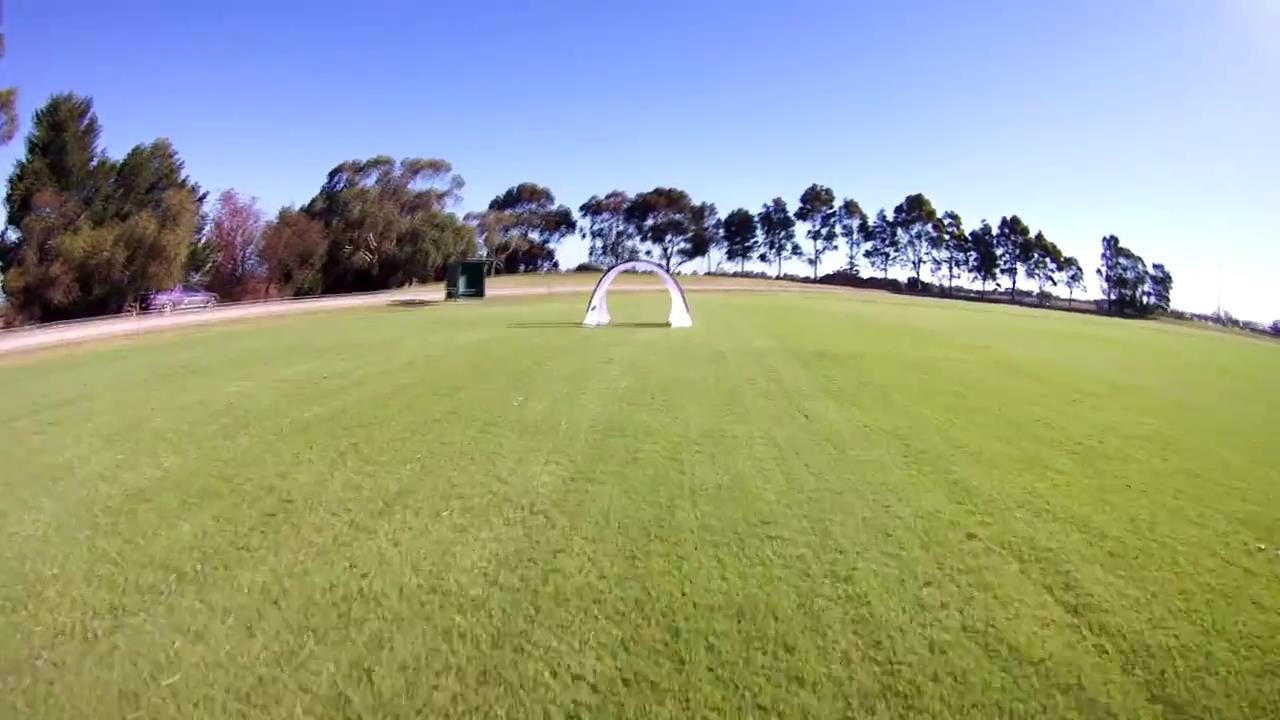gate: (582, 259, 695, 330)
